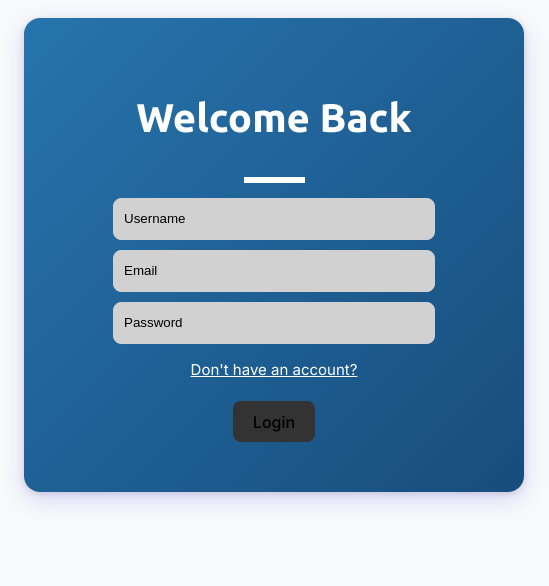
Scenario: LoginSignup Component › Form State Management › should clear error message on new submission
Click the button "Login": (274, 422) [233,401,315,442]
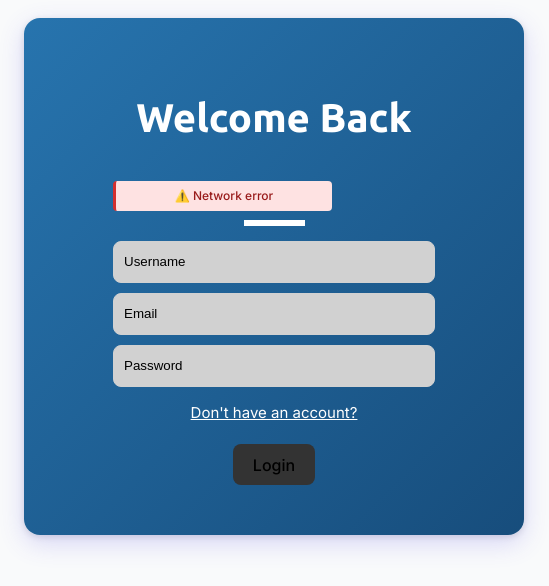
Expected: the text "⚠️ Network error" is shown, [113,181,332,211]
Click the button "Login": (274, 465) [233,444,315,485]
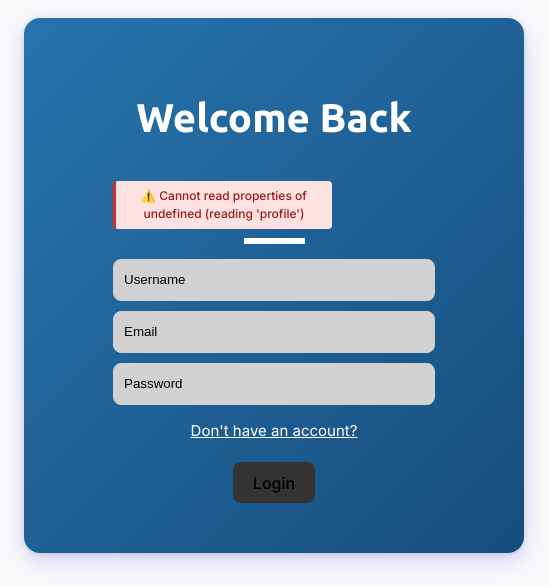
Expected: the text "Network error" is gone
